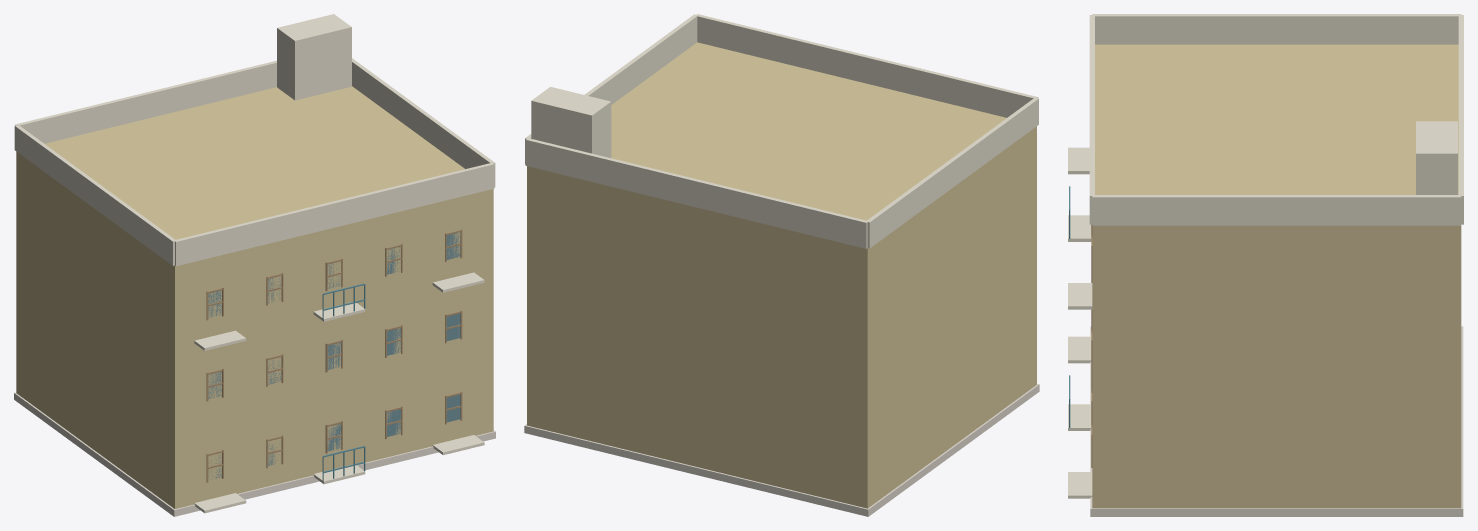
Rendered from mdl_buildings_apartment_block_001.glb.
The picture shows the model from 3 angles, left to right: view 1: azimuth 30°, elevation 25°; view 2: azimuth 150°, elevation 25°; view 3: azimuth 270°, elevation 25°; orthographic projection. The views are drawn at different scales.
Parts seen in each view (by area): view 1: m_fachada, m_crema, m_vidrio_petroleo, m_madera, m_caliza, m_petroleo; view 2: m_fachada, m_crema, m_caliza; view 3: m_fachada, m_crema, m_caliza.
Boxes of the visible parts, bbox=[...] form: m_fachada: bbox=[16, 86, 493, 508]; m_crema: bbox=[14, 14, 495, 513]; m_vidrio_petroleo: bbox=[208, 232, 460, 479]; m_madera: bbox=[206, 229, 462, 482]; m_caliza: bbox=[14, 392, 495, 516]; m_petroleo: bbox=[322, 283, 365, 481]; m_fachada: bbox=[527, 42, 1036, 508]; m_crema: bbox=[525, 14, 1038, 248]; m_caliza: bbox=[524, 383, 1039, 516]; m_fachada: bbox=[1092, 44, 1461, 508]; m_crema: bbox=[1068, 14, 1463, 498]; m_caliza: bbox=[1090, 326, 1463, 516].
Bounding box in the file's own units: 12.47 × 11.45 × 11.38.
